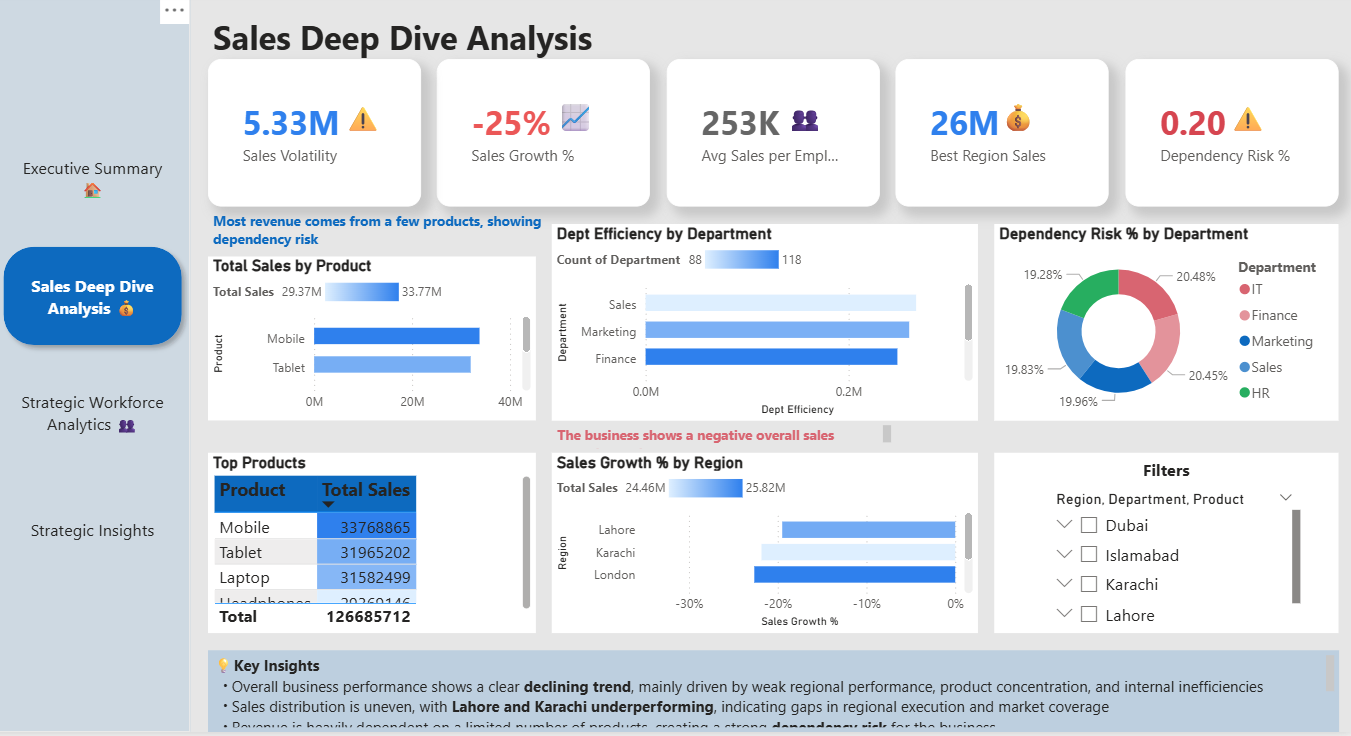

Layout of this report page (visuals, bound fields, positions):
{"tool":"powerbi","page":{"name":"Sales Deep Dive Analysis 💰 ","canvas":[1343,720],"ordinal":1},"visuals":[{"type":"shape","box":[16,0,192,720],"z":0,"group":"g1"},{"type":"textbox","box":[992,448,336,176],"z":0},{"type":"cardVisual","fields":{"Data":["Sales_Data.Sales Growth %"]},"box":[448,64,208,144],"z":1000},{"type":"cardVisual","fields":{"Data":["Sales_Data.Avg Sales per Employee"]},"box":[672,64,208,144],"z":2000},{"type":"cardVisual","fields":{"Data":["Sales_Data.Best Region Sales"]},"box":[896,64,208,144],"z":3000},{"type":"cardVisual","fields":{"Data":["Sales_Data.Sales Volatility"]},"box":[224,64,208,144],"z":4000},{"type":"cardVisual","fields":{"Data":["Sales_Data.Dependency %"]},"box":[1120,64,208,144],"z":5000},{"type":"clusteredBarChart","fields":{"Category":["HR_Data.Department"],"Y":["Sales_Data.Dept Efficiency"]},"box":[560,224,416,192],"z":6000},{"type":"tableEx","title":"Top Products","fields":{"Values":["Sales_Data.Product","Sales_Data.Total Sales"]},"box":[224,448,320,176],"z":7000},{"type":"donutChart","fields":{"Category":["HR_Data.Department"],"Y":["Sales_Data.Dependency Risk %"]},"box":[992,224,336,192],"z":8000},{"type":"textbox","box":[1216,96,64,48],"z":9000},{"type":"textbox","box":[560,96,48,48],"z":10000},{"type":"textbox","box":[992,96,80,48],"z":11000},{"type":"textbox","box":[784,96,48,48],"z":12000},{"type":"textbox","box":[352,96,48,48],"z":13000},{"type":"clusteredBarChart","fields":{"Y":["Sales_Data.Sales Growth %"],"Category":["Sales_Data.Region"]},"box":[560,448,416,176],"z":14000},{"type":"barChart","fields":{"Y":["Sales_Data.Total Sales"],"Category":["Sales_Data.Product"]},"box":[224,256,320,160],"z":15000},{"type":"textbox","box":[560,416,336,32],"z":16000},{"type":"textbox","box":[224,208,400,48],"z":17000},{"type":"textbox","box":[224,16,576,64],"z":18000},{"type":"pageNavigator","box":[16,122.9,192,456.6],"z":18500,"group":"g1"},{"type":"textbox","box":[224,640,1104,80],"z":19000},{"type":"group","id":"g1","title":"Group 1","box":[16,0,192,720],"z":20000},{"type":"slicer","fields":{"Values":["Sales_Data.Region","HR_Data.Department","Sales_Data.Product"]},"box":[1040,480,256,144],"z":21000}]}

Visuals, with their boxes on the page's 1343x720 design canvas (x1, y1, x2, y2). These are canvas units, not pixel positions in the 1351x736 screenshot, which may show the page scaled, cropped or inside an application window:
shape: select_region(16, 0, 208, 720)
textbox: select_region(992, 448, 1328, 624)
cardVisual - Sales_Data.Sales Growth %: select_region(448, 64, 656, 208)
cardVisual - Sales_Data.Avg Sales per Employee: select_region(672, 64, 880, 208)
cardVisual - Sales_Data.Best Region Sales: select_region(896, 64, 1104, 208)
cardVisual - Sales_Data.Sales Volatility: select_region(224, 64, 432, 208)
cardVisual - Sales_Data.Dependency %: select_region(1120, 64, 1328, 208)
clusteredBarChart - HR_Data.Department x Sales_Data.Dept Efficiency: select_region(560, 224, 976, 416)
"Top Products" tableEx: select_region(224, 448, 544, 624)
donutChart - HR_Data.Department x Sales_Data.Dependency Risk %: select_region(992, 224, 1328, 416)
textbox: select_region(1216, 96, 1280, 144)
textbox: select_region(560, 96, 608, 144)
textbox: select_region(992, 96, 1072, 144)
textbox: select_region(784, 96, 832, 144)
textbox: select_region(352, 96, 400, 144)
clusteredBarChart - Sales_Data.Sales Growth % x Sales_Data.Region: select_region(560, 448, 976, 624)
barChart - Sales_Data.Total Sales x Sales_Data.Product: select_region(224, 256, 544, 416)
textbox: select_region(560, 416, 896, 448)
textbox: select_region(224, 208, 624, 256)
textbox: select_region(224, 16, 800, 80)
pageNavigator: select_region(16, 123, 208, 580)
textbox: select_region(224, 640, 1328, 720)
"Group 1" group: select_region(16, 0, 208, 720)
slicer - Sales_Data.Region x HR_Data.Department: select_region(1040, 480, 1296, 624)
